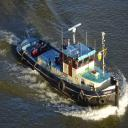tugboat: (16, 23, 122, 116)
